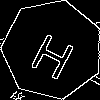H: (27, 24, 82, 81)
